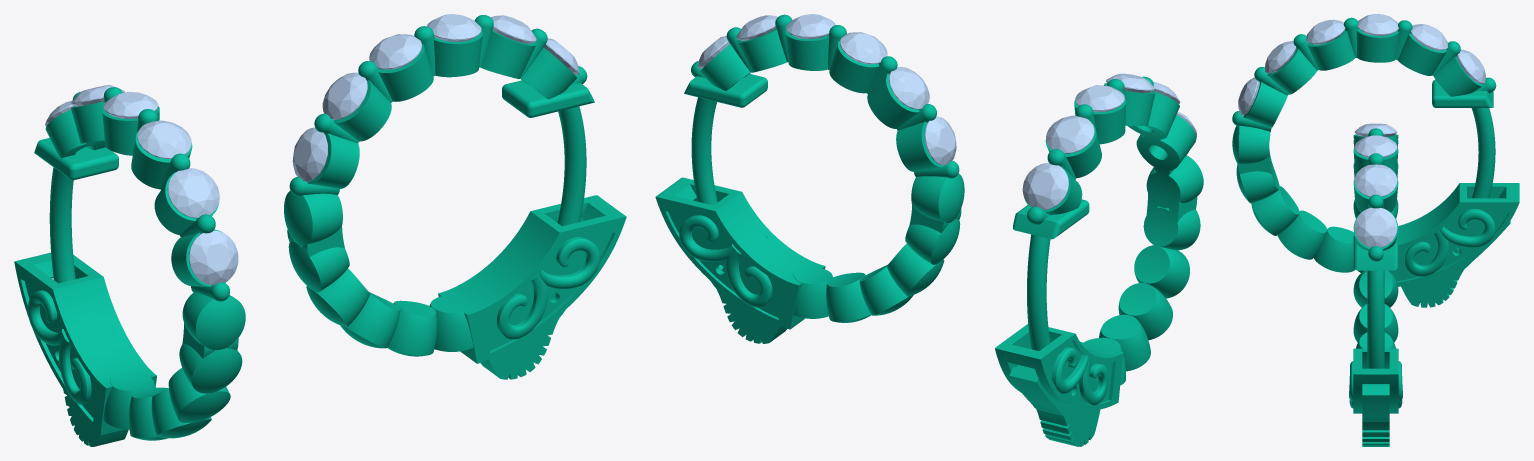
3 renders of one model, left to right at view 1: azimuth 30°, elevation 25°; view 2: azimuth 150°, elevation 25°; view 3: azimuth 270°, elevation 25°, orthographic. The views are drawn at different scales.
Parts seen in each view (by area): view 1: VEAR169.3dm, Bezel (×12), Diamond_Round (×9); view 2: VEAR169.3dm, Bezel (×12), Diamond_Round (×9); view 3: VEAR169.3dm, Bezel (×8), Diamond_Round (×10).
Boxes of the visible parts, box(x1,y1,x2,y2) form: VEAR169.3dm: box(14, 15, 626, 446); Bezel (×12): box(45, 30, 576, 286); Diamond_Round (×9): box(103, 14, 536, 285); VEAR169.3dm: box(655, 14, 1203, 446); Bezel (×12): box(700, 29, 1196, 214); Diamond_Round (×9): box(736, 14, 1154, 209); VEAR169.3dm: box(1232, 17, 1519, 446); Bezel (×8): box(1243, 29, 1482, 212); Diamond_Round (×10): box(1238, 14, 1485, 247).
Size of the model in its own units: 2.93 by 2.01 by 1.84.
